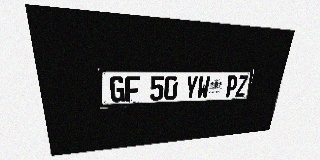0: (164, 76, 178, 100)
5: (150, 76, 164, 101)
F: (125, 76, 140, 102)
G: (109, 76, 125, 102)
P: (224, 75, 238, 97)
W: (196, 76, 210, 98)
Y: (185, 76, 199, 99)
Z: (235, 75, 248, 97)
